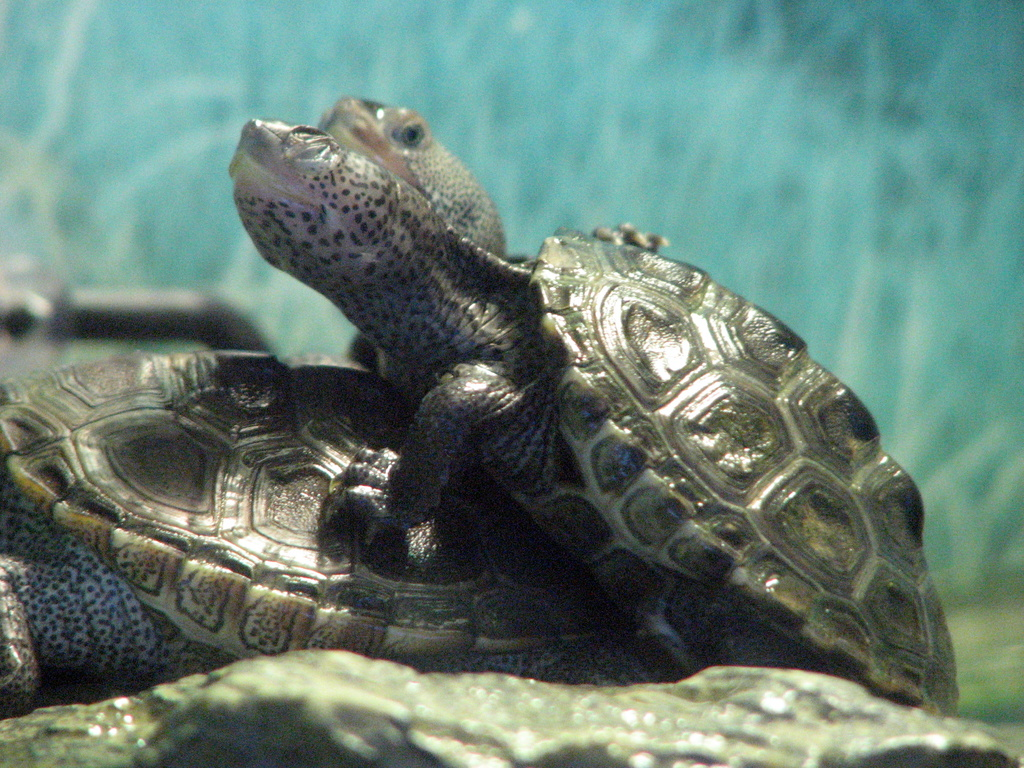Sea turtles: (0, 83, 961, 720)
